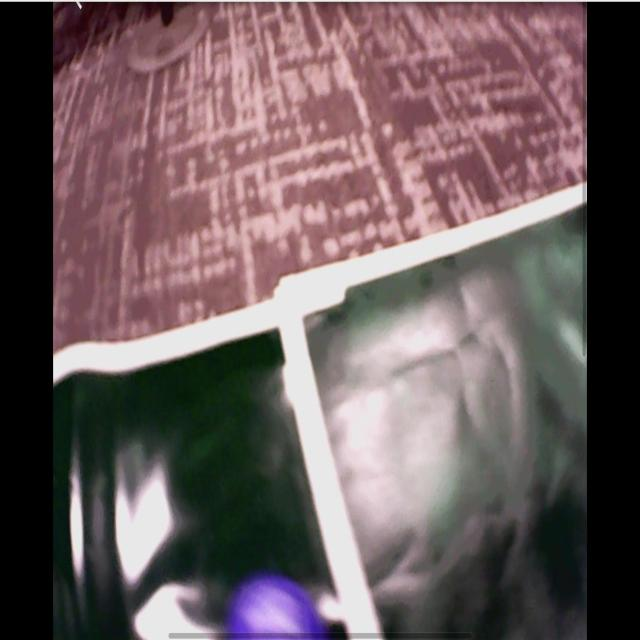ball: (231, 580, 319, 638)
